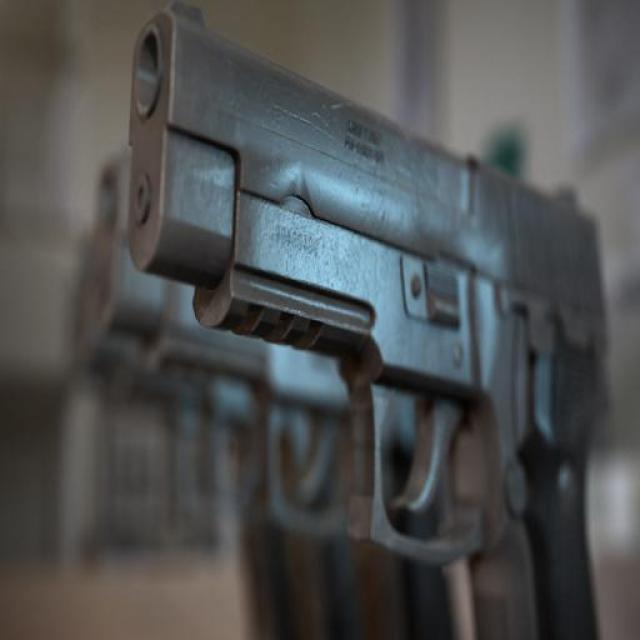pistol: (120, 10, 602, 636)
